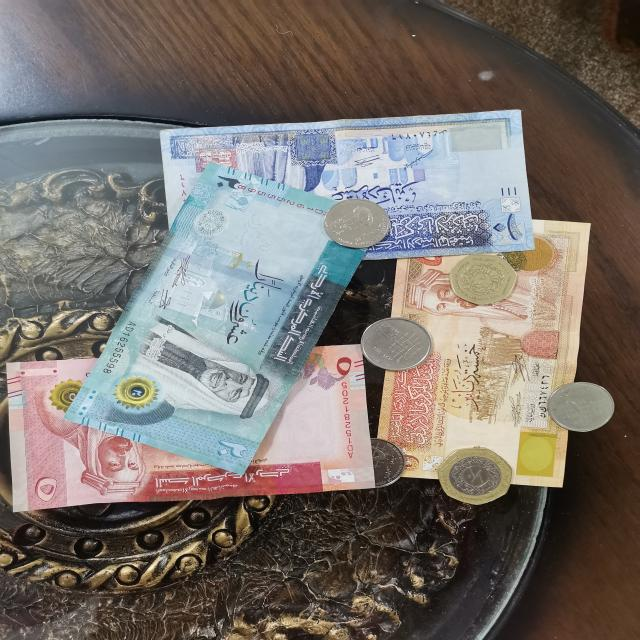10-coins: (358, 316, 439, 374)
10-dinar: (154, 108, 544, 273)
20-dinar: (57, 164, 390, 478)
25-coins: (436, 250, 531, 310)
5-coins: (320, 195, 401, 253), (545, 379, 618, 435), (336, 435, 411, 488)
5-dinar: (0, 339, 391, 515), (378, 212, 602, 496)
50-coins: (428, 446, 525, 510)
